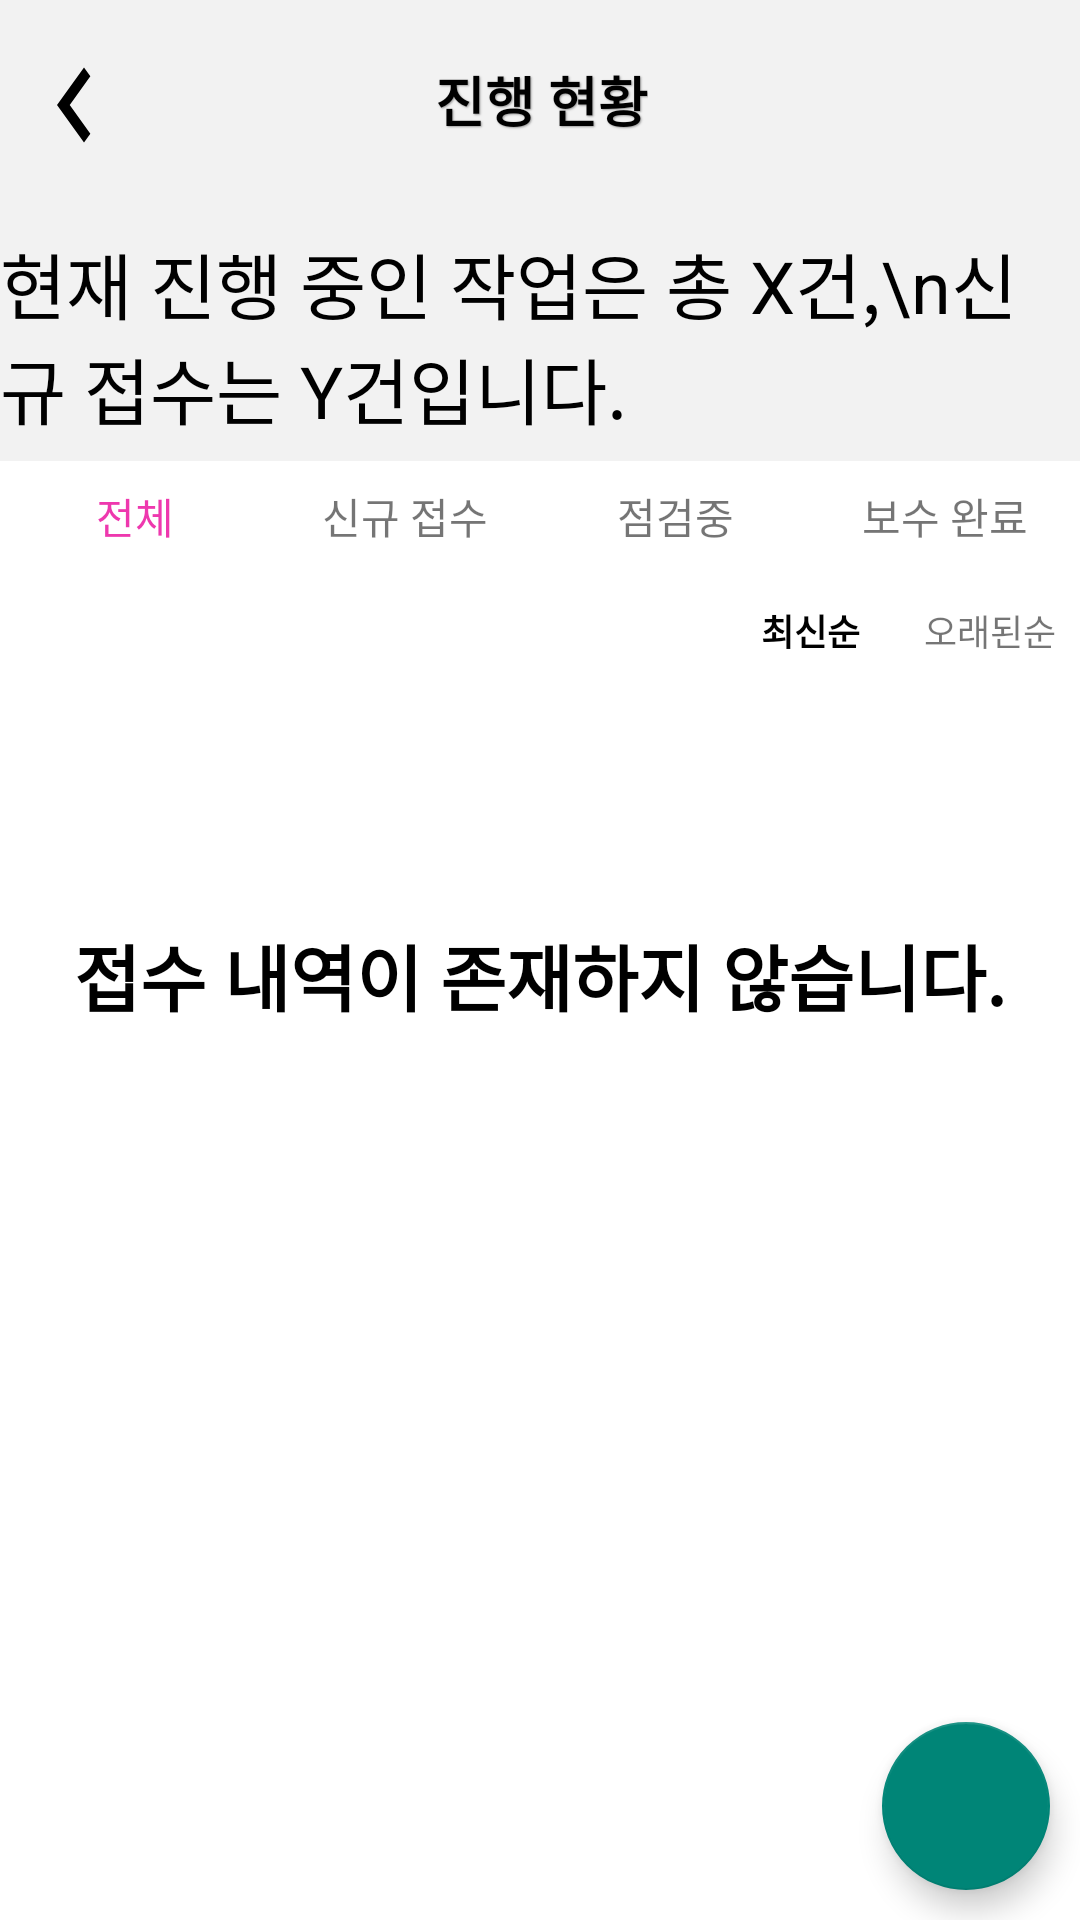

Point at icon controls on the screen. Image size 1080 x 1920, points as [x,y].
back: [74,105]
